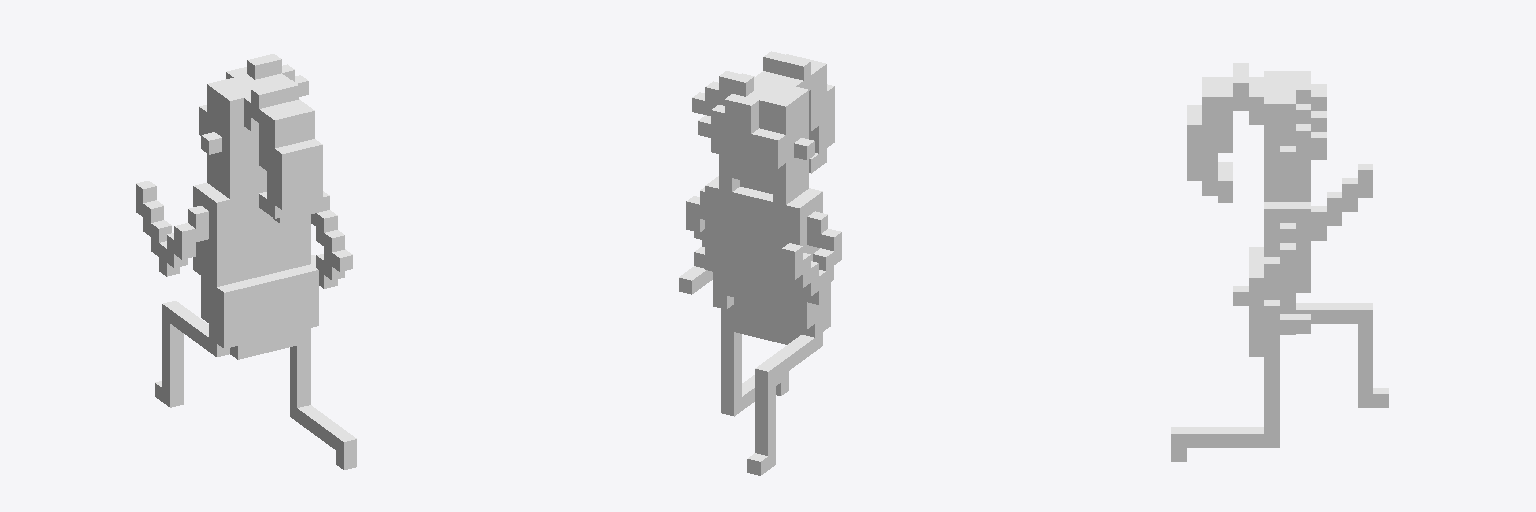
Rendered from character_Two_Run1-07.obj.
3 renders of one model, left to right at view 1: azimuth 30°, elevation 25°; view 2: azimuth 150°, elevation 25°; view 3: azimuth 270°, elevation 25°, orthographic.
Size of the model in its own units: 11 by 26 by 14.